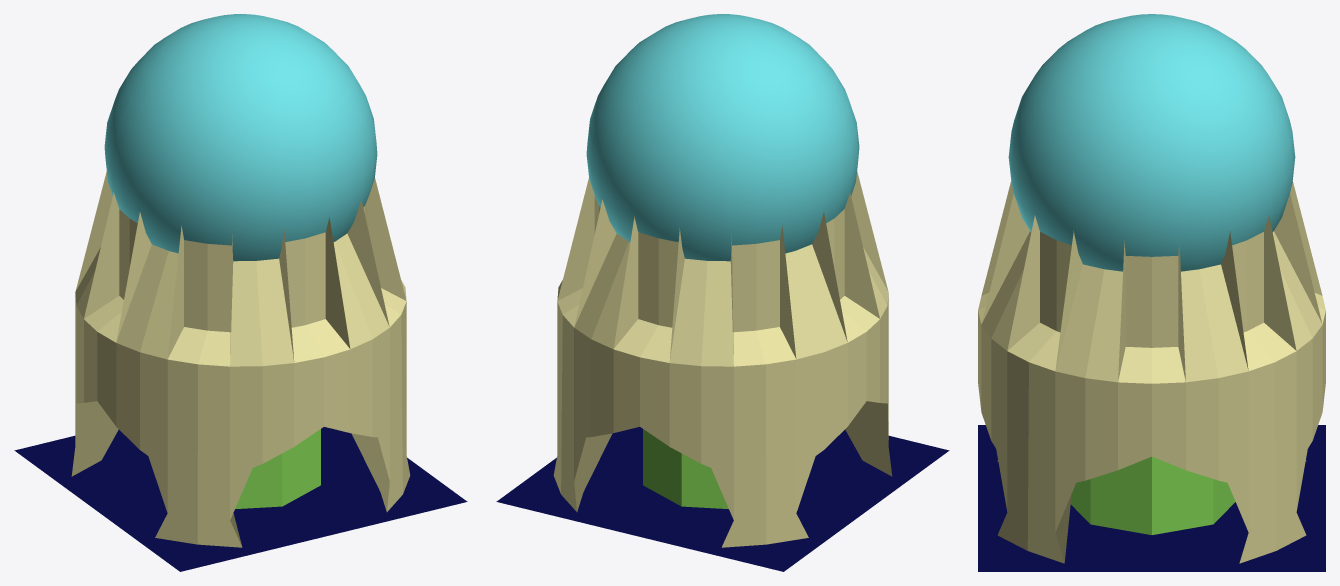
Rendered from researchLab.fbx.
3 views of the same model, side by side, from view 1: azimuth 30°, elevation 25°; view 2: azimuth 150°, elevation 25°; view 3: azimuth 270°, elevation 25° (orthographic). The views are drawn at different scales.
Parts seen in each view (by area): view 1: Cylinder, Sphere, Plane, Cylinder.001; view 2: Cylinder, Sphere, Plane, Cylinder.001; view 3: Cylinder, Sphere, Plane, Cylinder.001.
Boxes of the visible parts, x1,y1,x2,y2 form: Cylinder: (71,171,410,547); Sphere: (104,14,377,261); Plane: (14,427,467,571); Cylinder.001: (235,429,320,509); Cylinder: (553,171,892,547); Sphere: (586,14,859,261); Plane: (496,427,949,571); Cylinder.001: (643,429,728,509); Cylinder: (978,181,1325,563); Sphere: (1008,14,1295,271); Plane: (978,425,1325,571); Cylinder.001: (1070,456,1235,534).
Bounding box in the file's own units: 200 × 299 × 200.
